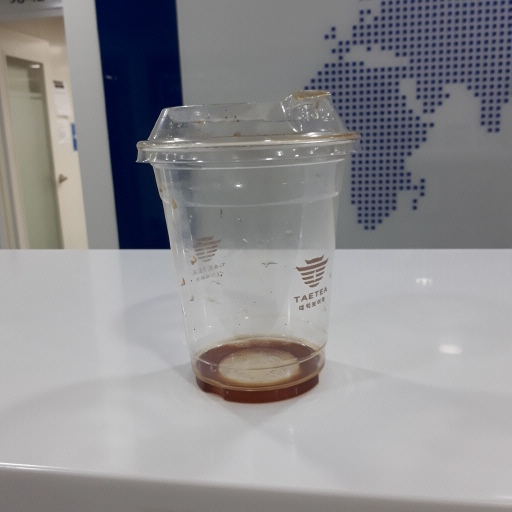Plastic_2: (136, 90, 358, 404)
